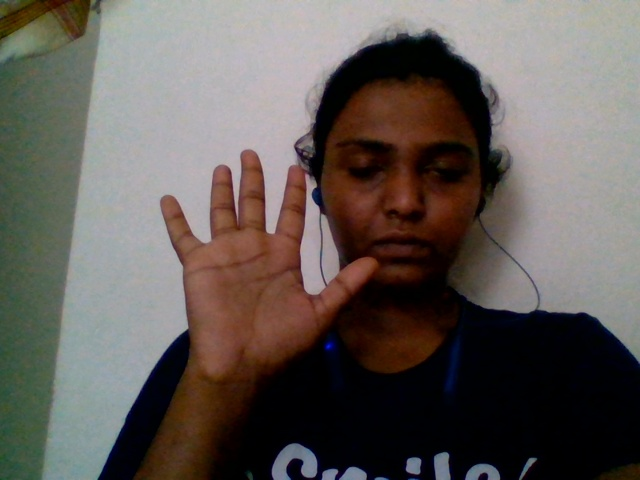Hello: (137, 115, 388, 393)
